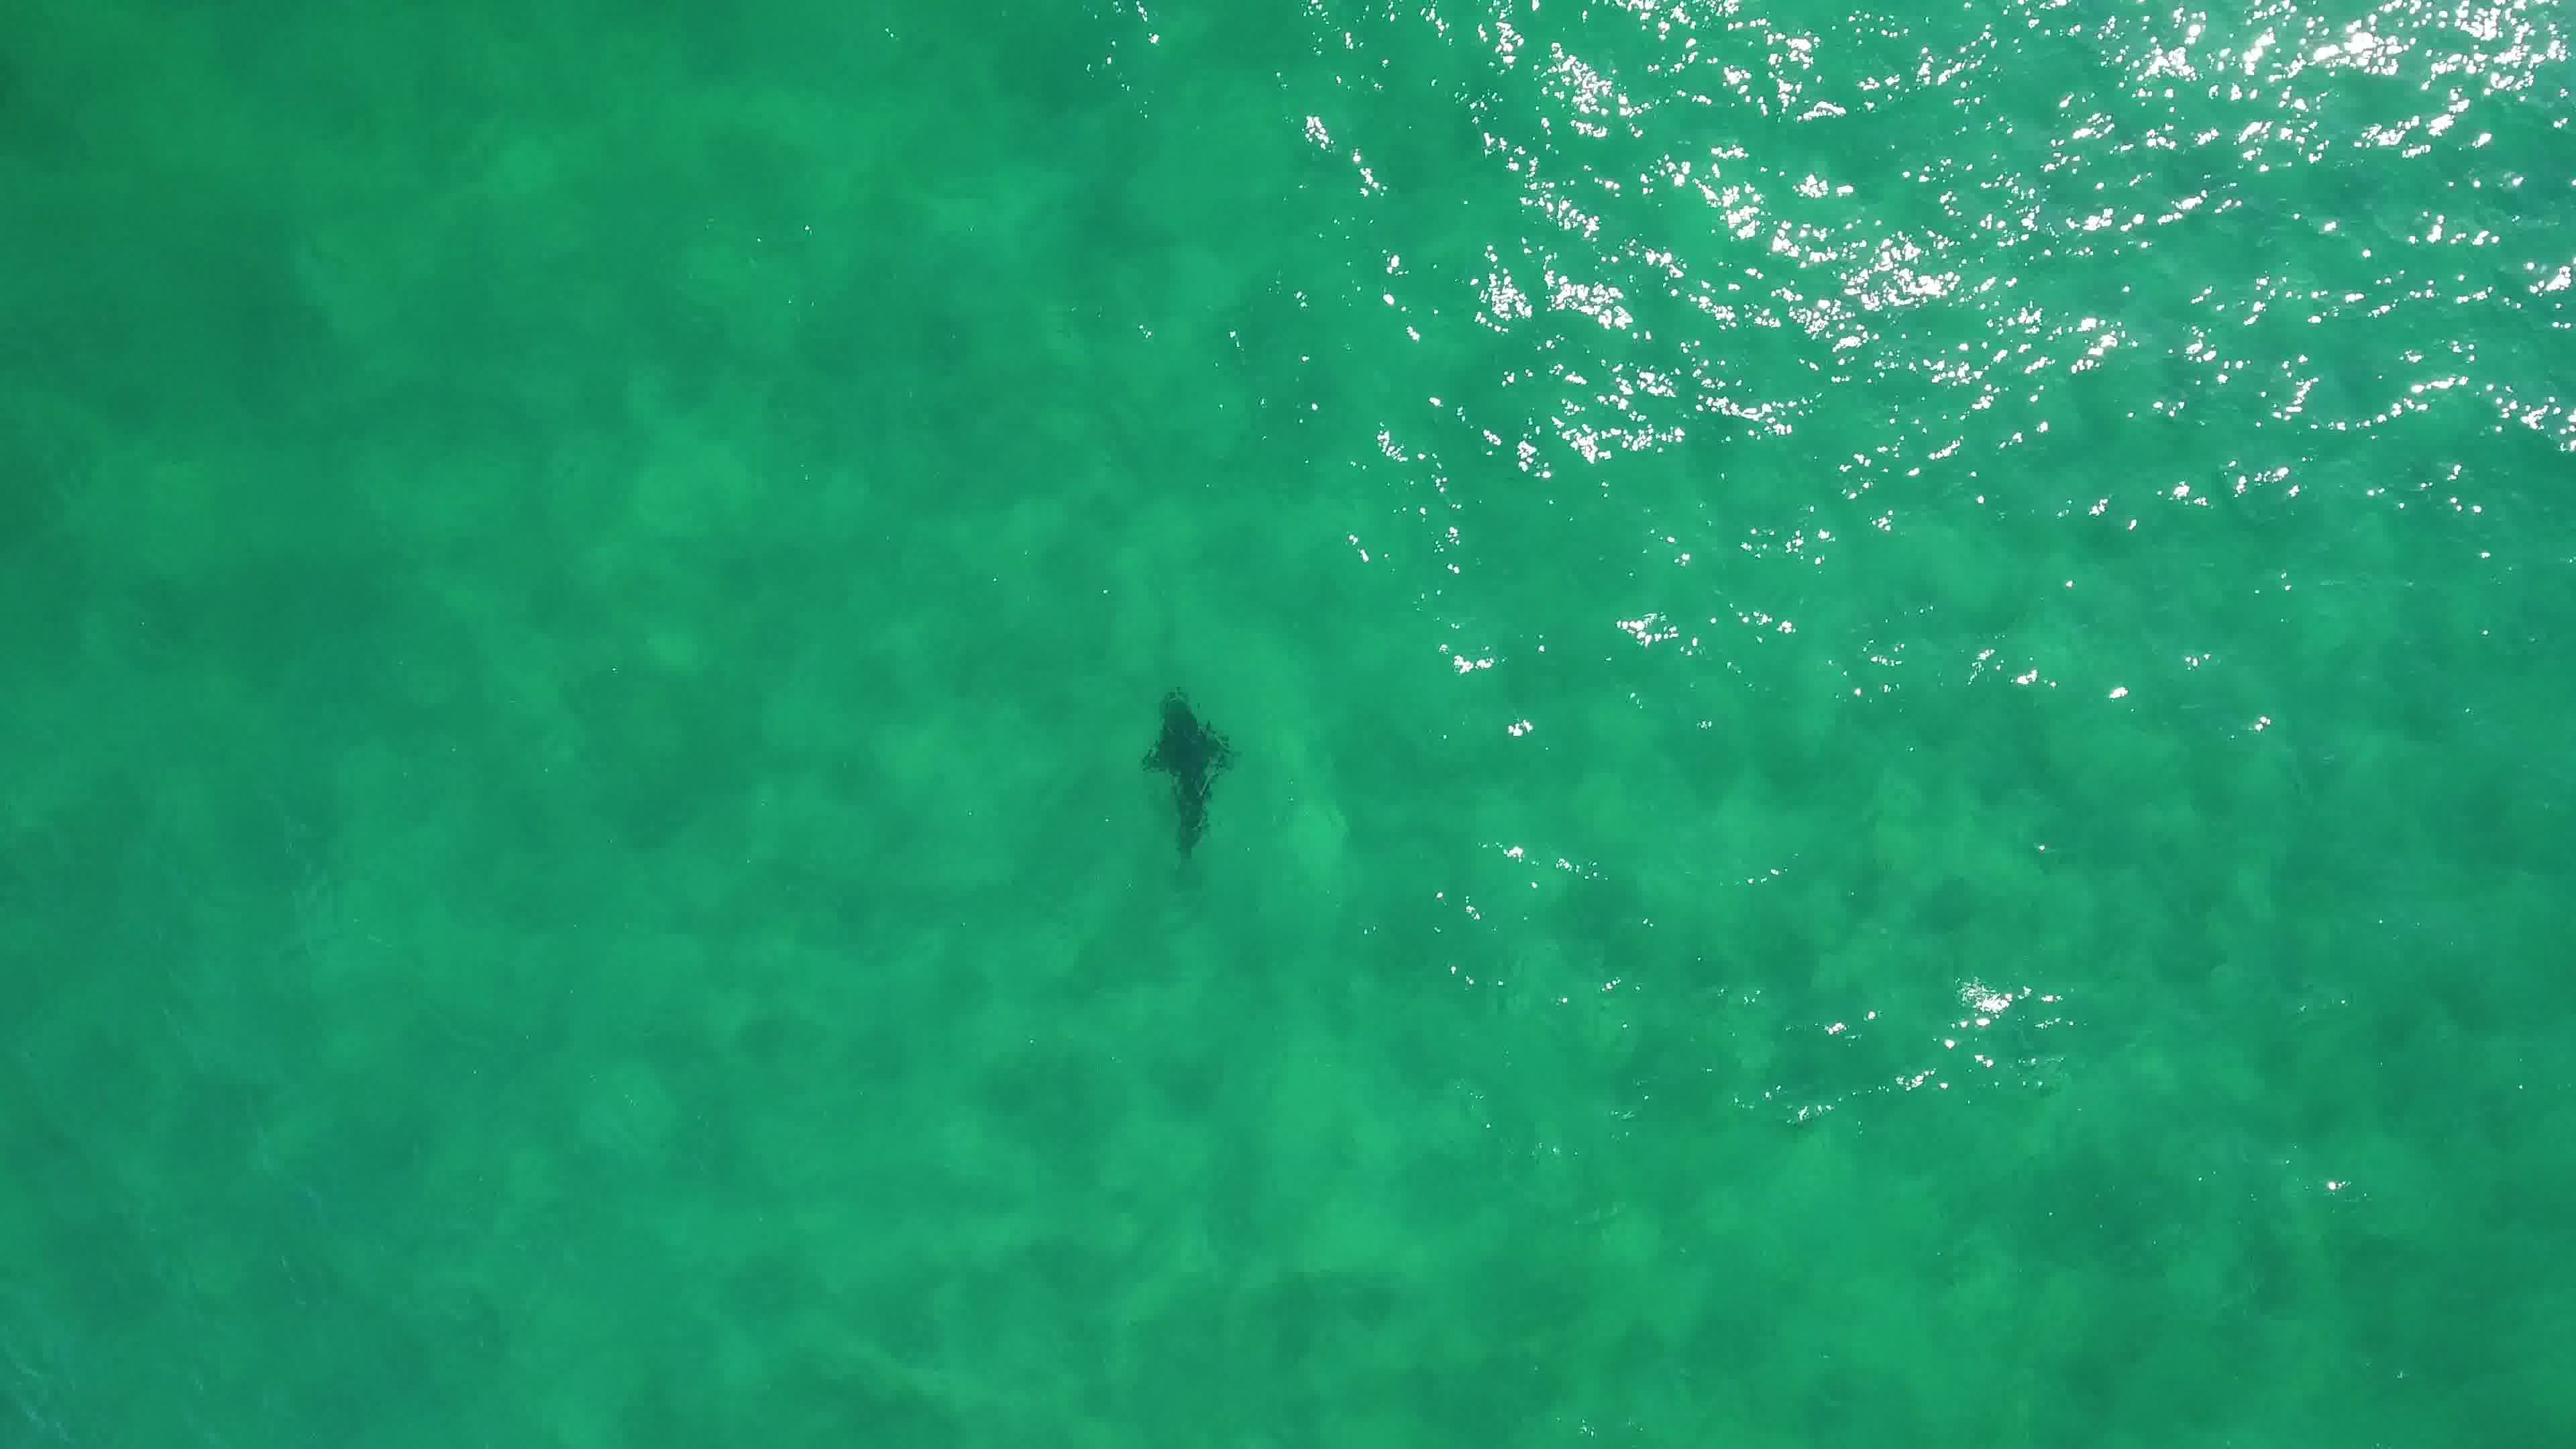shark: (1131, 679, 1242, 865)
